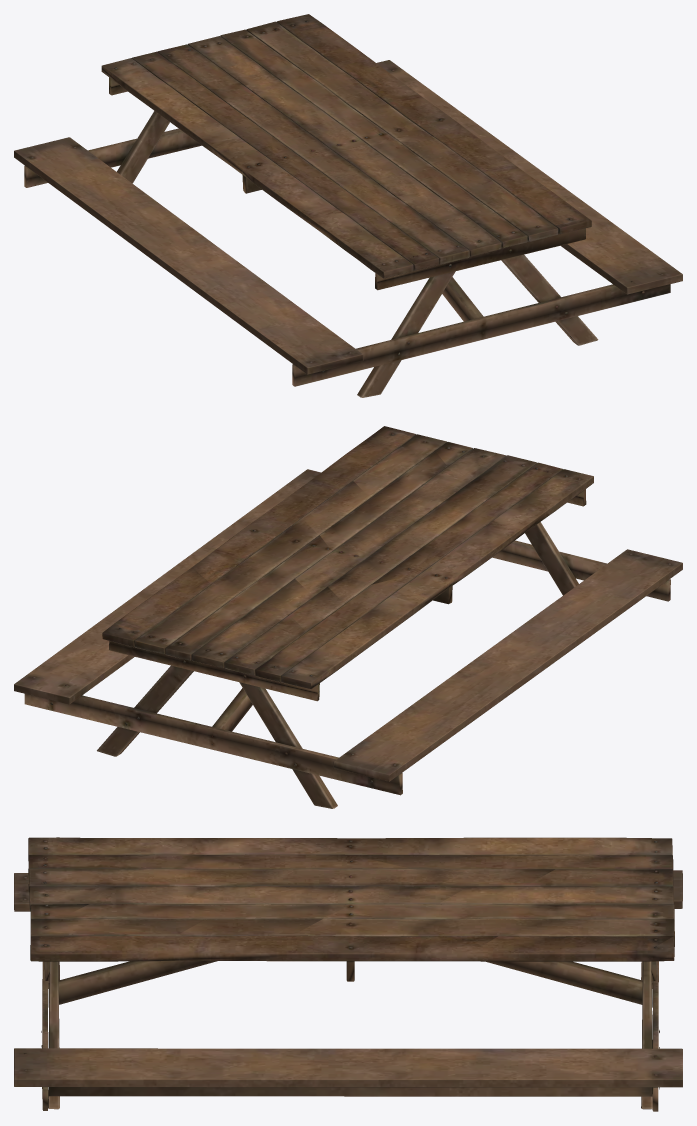
Rendered from wooden_picnic_table.glb.
The picture shows the model from 3 angles, top to bottom: view 1: azimuth 30°, elevation 25°; view 2: azimuth 150°, elevation 25°; view 3: azimuth 270°, elevation 25°; orthographic projection. The views are drawn at different scales.
Parts seen in each view (by area): view 1: wooden_picnic_table; view 2: wooden_picnic_table; view 3: wooden_picnic_table.
Boxes of the visible parts, x1,y1,x2,y2 form: wooden_picnic_table: (14, 14, 682, 397); wooden_picnic_table: (14, 426, 682, 808); wooden_picnic_table: (14, 837, 682, 1111).
Bounding box in the file's own units: 2.24 × 0.746 × 3.02.
2 materials, 2 textured.
